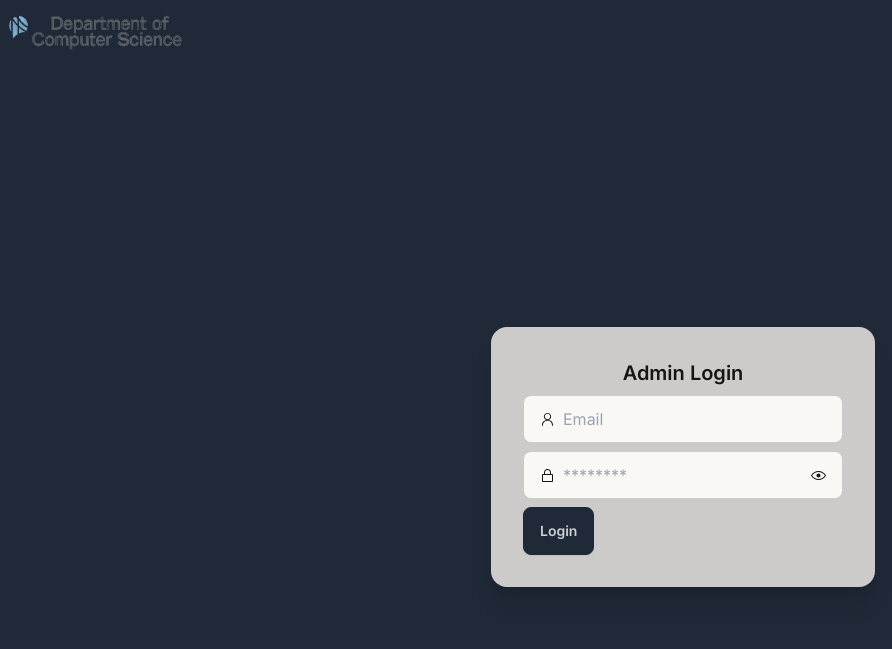
Test: Admin Login › should show authentication error when invalid login is provided
Type "notvalid@gmail.com" into the field with placeholder "Email" at [694, 419], box left=563, top=407, right=826, bottom=431
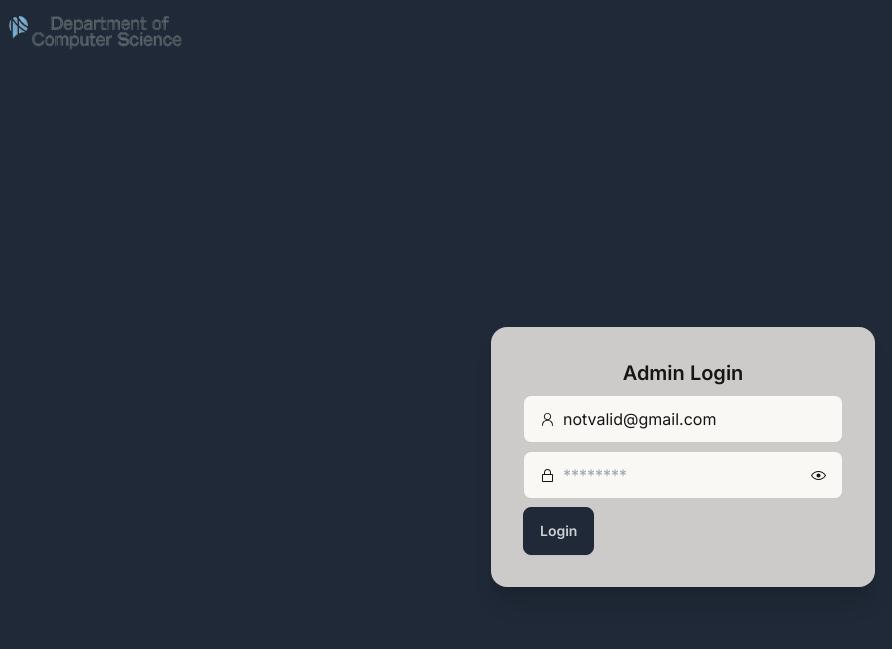
Type "password" into the password field with placeholder "********" at [683, 475], box left=563, top=463, right=803, bottom=487
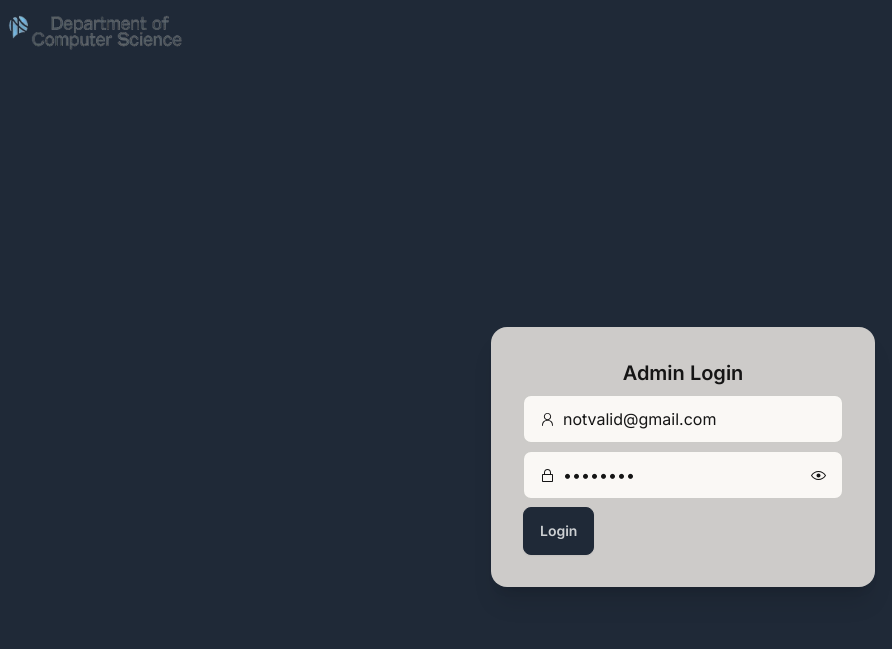
Click the button "Login" at [559, 531], box left=523, top=507, right=594, bottom=555
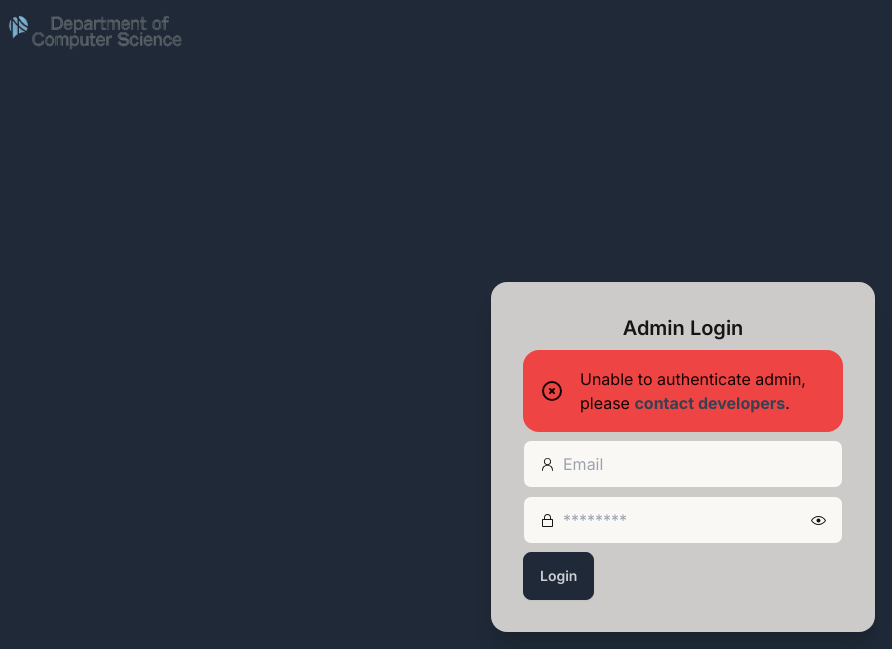
Result: the message "Unable to authenticate admin, please contact developers ." is shown at left=523, top=350, right=843, bottom=432
